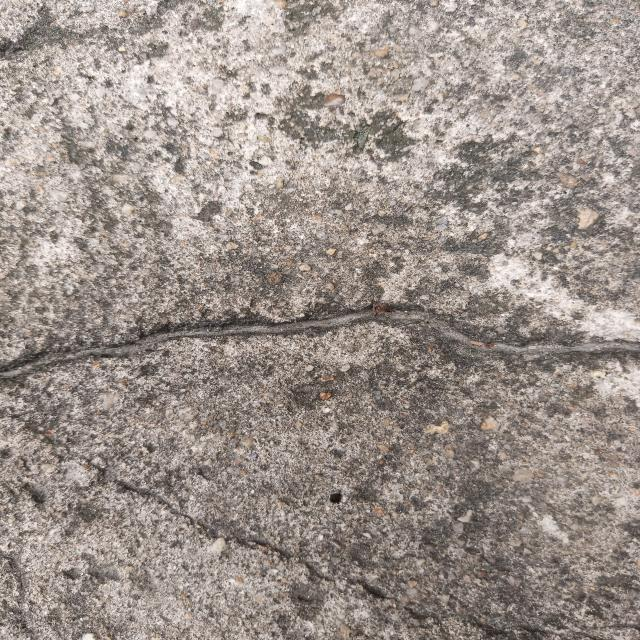horizontal crack: (0, 310, 640, 379)
